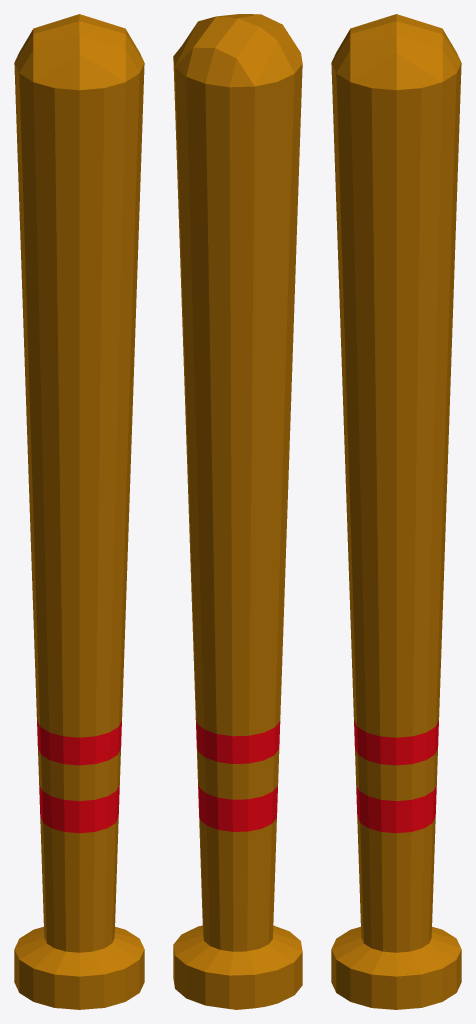
The model's file is bat.fbx.
3 renders of one model, left to right at view 1: azimuth 90°, elevation 25°; view 2: azimuth 150°, elevation 25°; view 3: azimuth 270°, elevation 25°, orthographic.
Visible parts, largest first — view 1: Cylinder; view 2: Cylinder; view 3: Cylinder.
Boxes of the visible parts, x1=… form: Cylinder: x1=14, y1=14, x2=144, y2=1009; Cylinder: x1=173, y1=14, x2=302, y2=1009; Cylinder: x1=331, y1=14, x2=461, y2=1009.
Bounding box in the file's own units: 40.38 × 40.38 × 333.
Materials: 1 (1 with a texture image).
